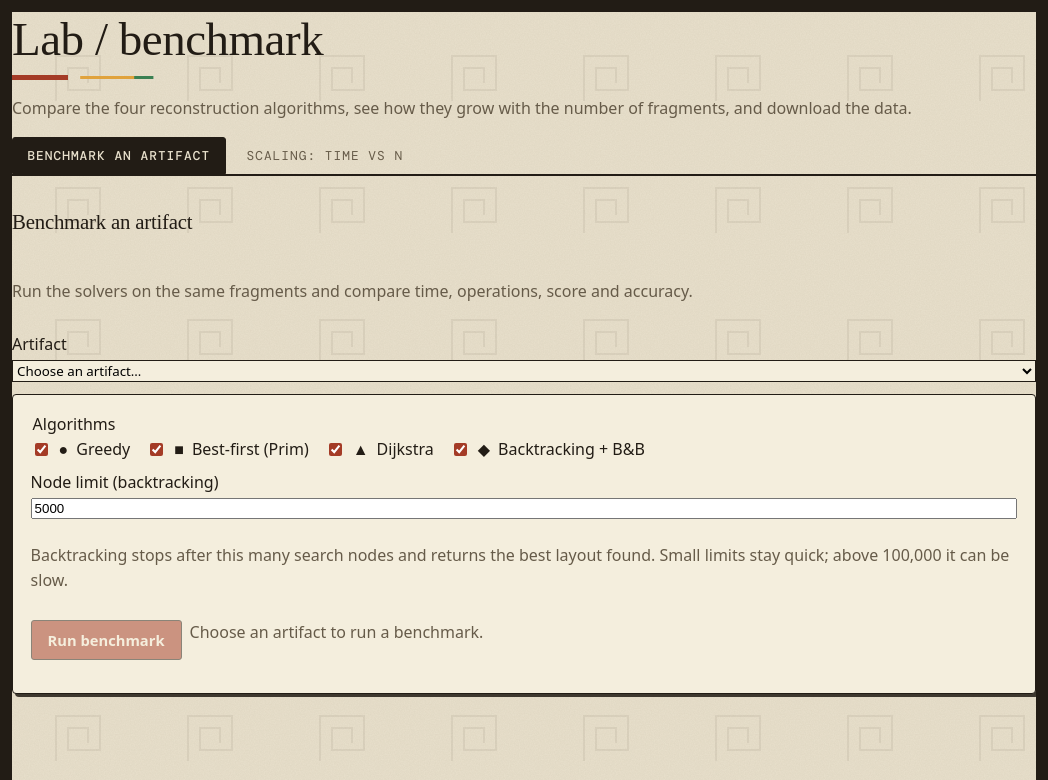
Test: LabPage: benchmark › requires at least one algorithm
The image size is (1048, 780).
Click the checkbox labelled "● Greedy" at (41, 449), box [35,443,48,456]
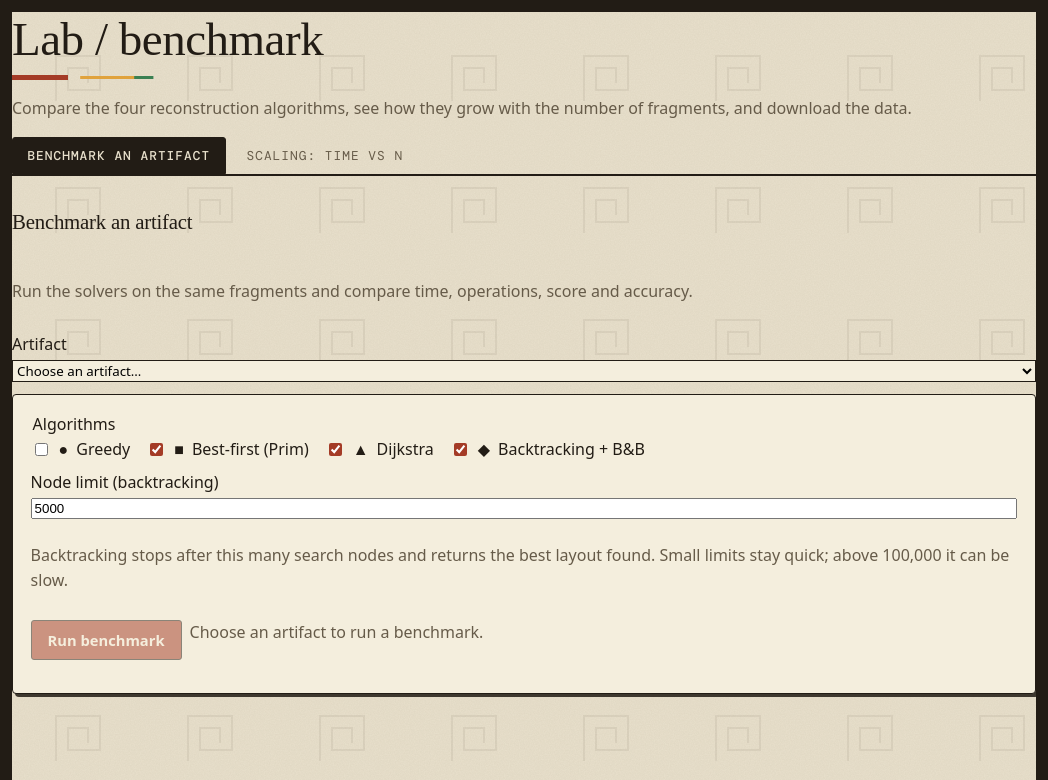
Click the checkbox labelled "■ Best-first (Prim)" at (157, 449), box [150,443,163,456]
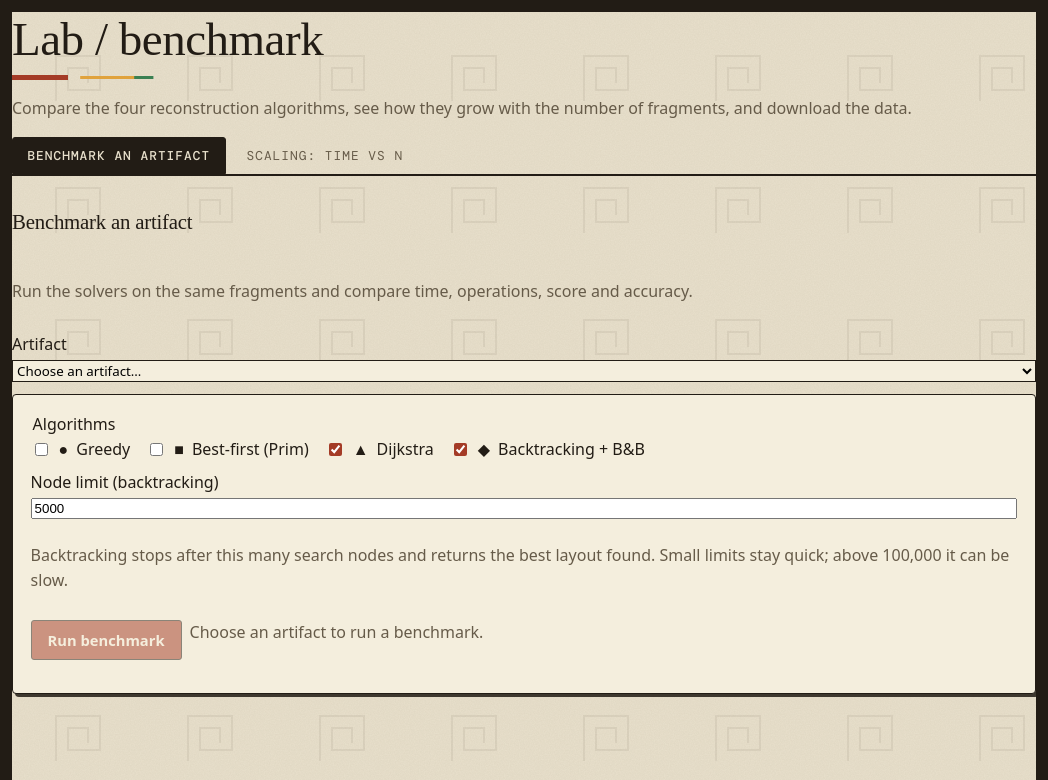
Click the checkbox labelled "▲ Dijkstra" at (335, 449), box [329,443,342,456]
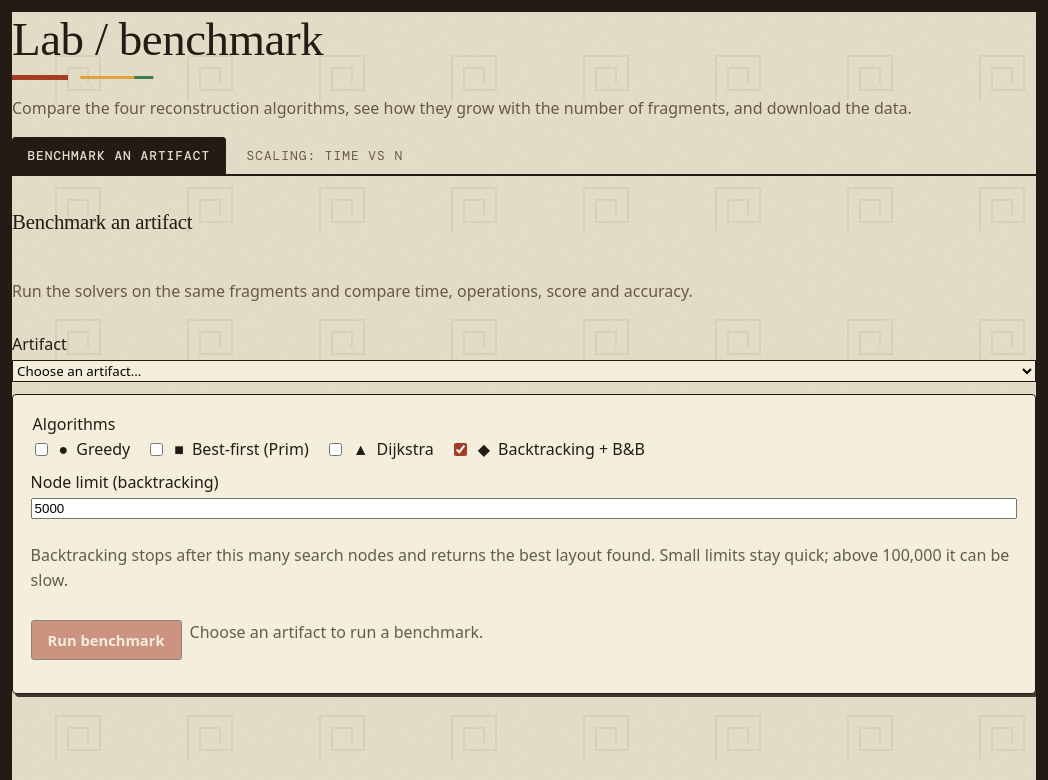
Click the checkbox labelled "◆ Backtracking + B&B" at (460, 449), box [454,443,467,456]
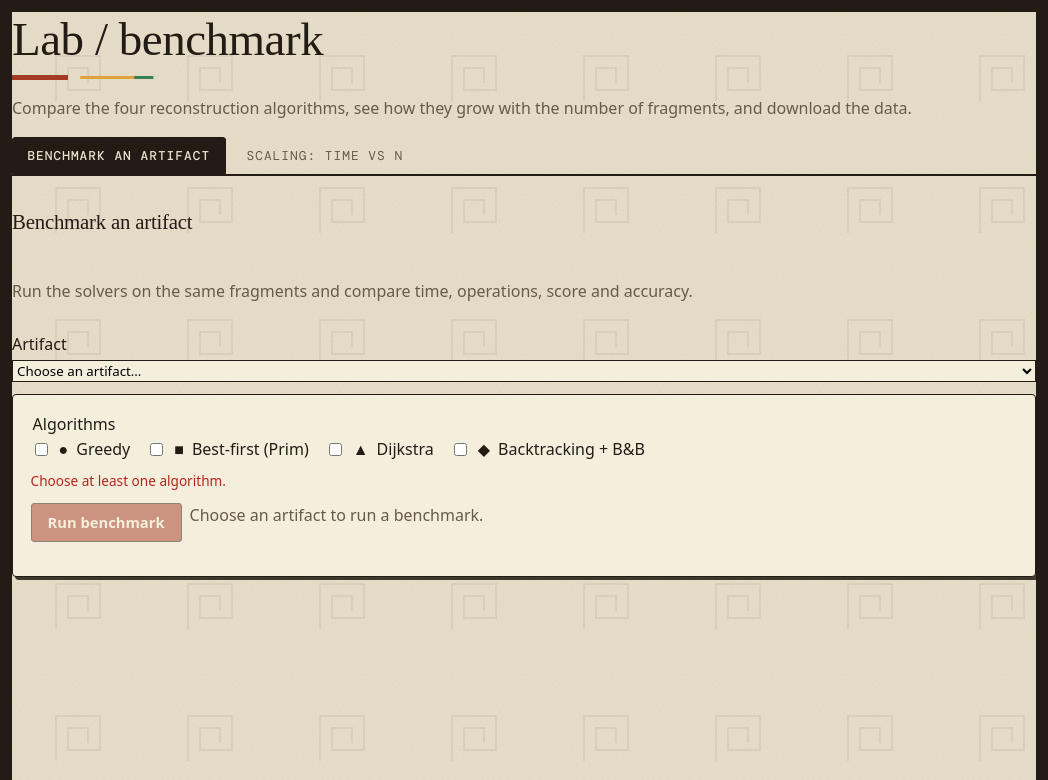
Expected: the button "Run benchmark" is disabled, [31,503,182,542]
Now the text "Choose at least one algorithm." is shown, box [31,471,226,490]
